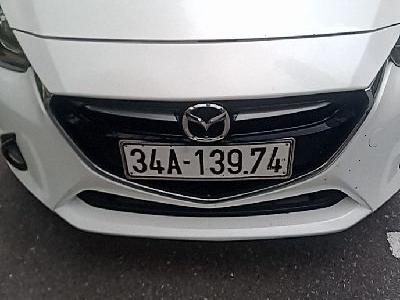number: (119, 140, 292, 179)
